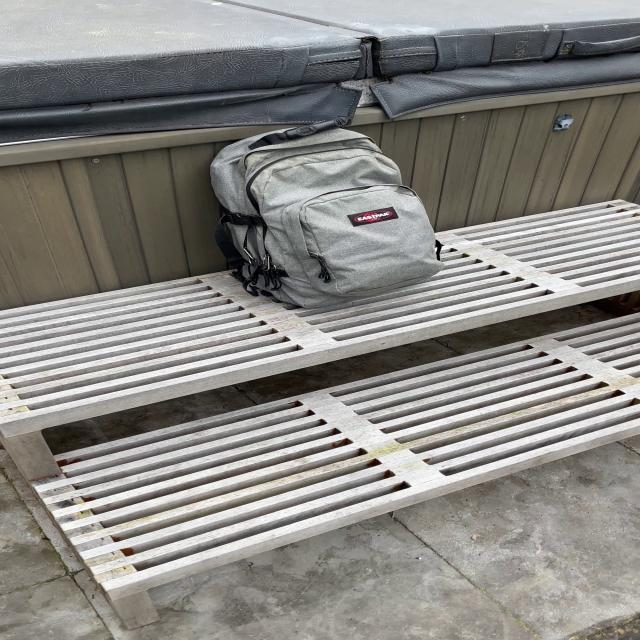backpack: (197, 120, 449, 308)
